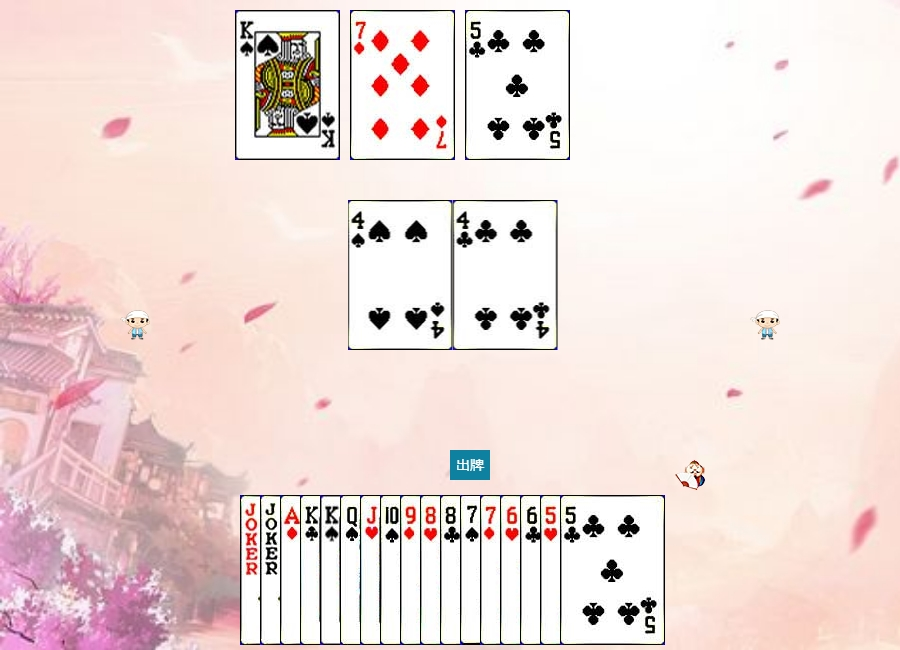10~4: (380, 495, 485, 645)
11~3: (360, 495, 465, 645)
12~4: (340, 495, 445, 645)
13~2: (300, 495, 405, 645)
13~4: (235, 10, 340, 160), (320, 495, 425, 645)
14~1: (280, 495, 385, 645)
17~3: (260, 495, 365, 645)
18~4: (240, 495, 345, 645)
4~2: (453, 200, 558, 350)
4~4: (348, 200, 453, 350)
5~2: (465, 10, 570, 160), (560, 495, 665, 645)
5~3: (540, 495, 645, 645)
6~2: (520, 495, 625, 645)
6~3: (500, 495, 605, 645)
7~1: (350, 10, 455, 160), (480, 495, 585, 645)
7~4: (460, 495, 565, 645)
8~2: (440, 495, 545, 645)
8~3: (420, 495, 525, 645)
9~1: (400, 495, 505, 645)
